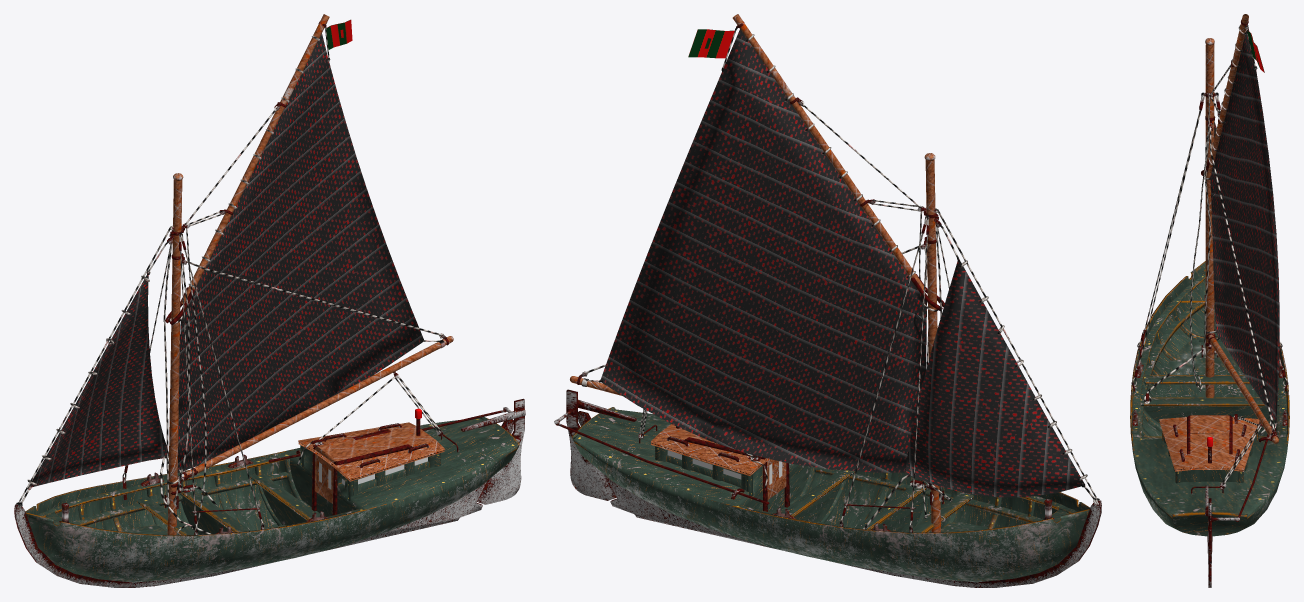
File: FireBoat.fbx
3 views of the same model, side by side, from view 1: azimuth 30°, elevation 25°; view 2: azimuth 150°, elevation 25°; view 3: azimuth 270°, elevation 25° (orthographic). The views are drawn at different scales.
Visible parts, largest first — view 1: polySurface1533_lambert1_0; view 2: polySurface1533_lambert1_0; view 3: polySurface1533_lambert1_0.
Part boxes in pixels (x1,y1,x2,y2): polySurface1533_lambert1_0: (14,14,525,587); polySurface1533_lambert1_0: (554,14,1101,587); polySurface1533_lambert1_0: (1130,14,1289,587).
Size of the model in its own units: 998 by 975 by 280.
